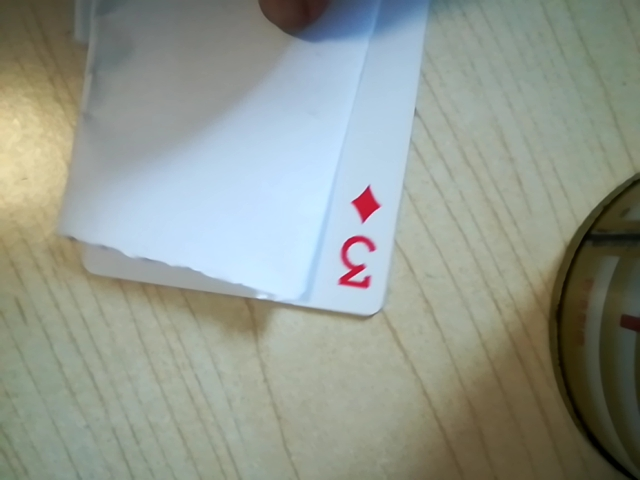fk 3: (318, 183, 390, 299)
